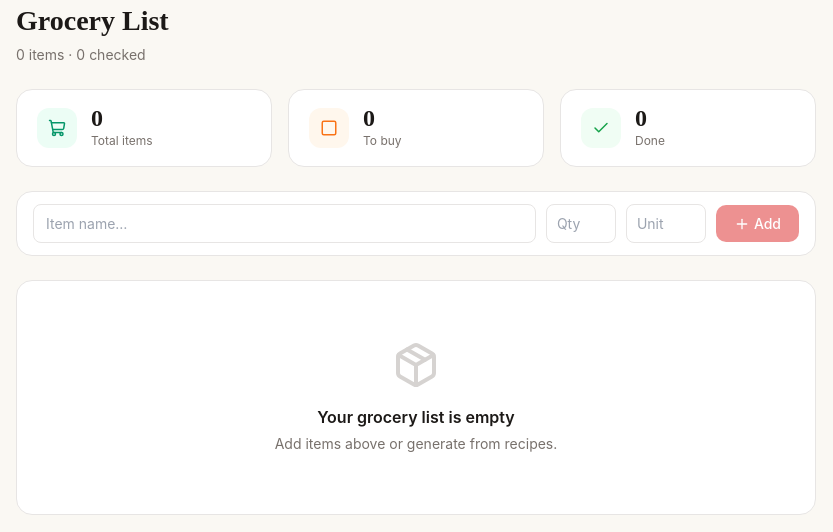
Test case: GroceryList page › adds an item
The image size is (833, 532).
Type "Butter" into the field with placeholder "Item name…" at (284, 224), box [33,204,536,243]
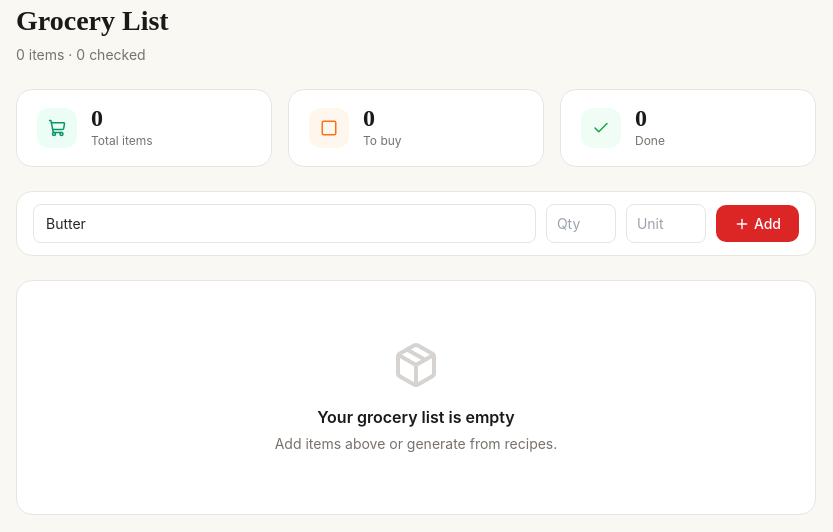
Click the button "Add" at (757, 224), box [716,205,799,242]
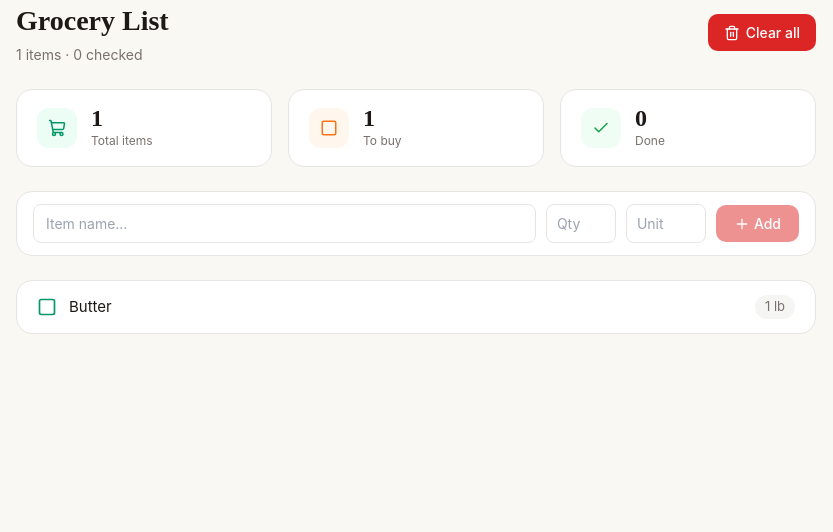
Expected: the text "Butter" is shown, [69,296,112,316]
